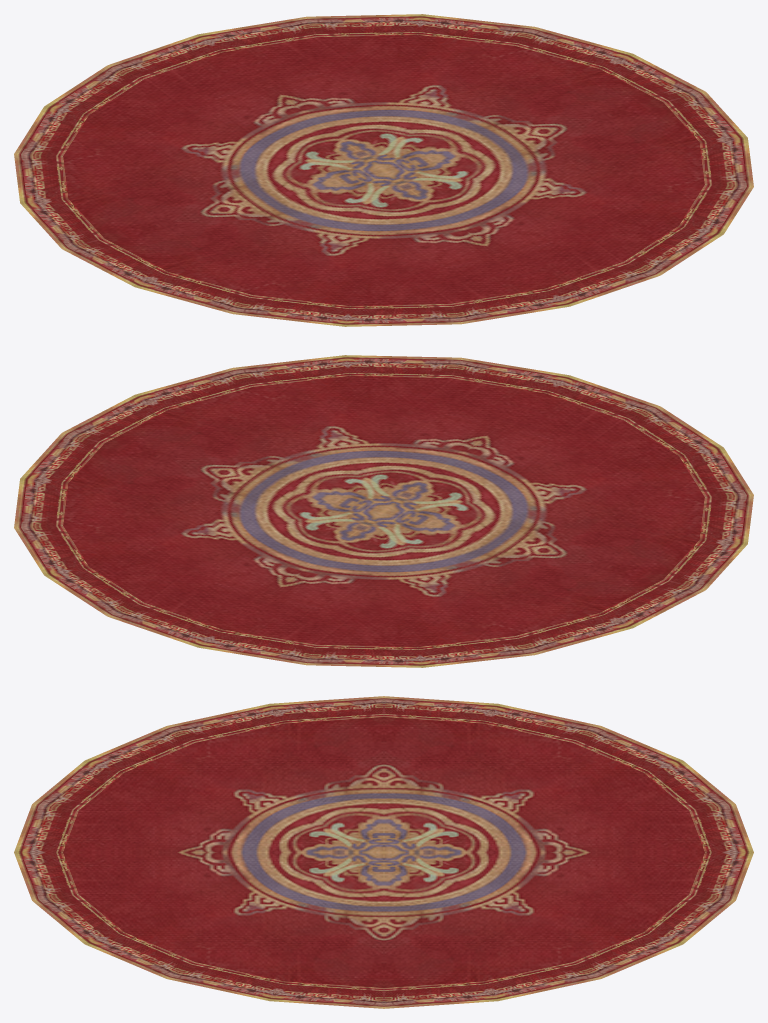
File: S2_Build_XSC052b.FBX
3 views of the same model, one above another, from view 1: azimuth 30°, elevation 25°; view 2: azimuth 150°, elevation 25°; view 3: azimuth 270°, elevation 25° (orthographic).
Parts seen in each view (by area): view 1: S2_Build_XSC052b; view 2: S2_Build_XSC052b; view 3: S2_Build_XSC052b.
Boxes of the visible parts, <box> form: S2_Build_XSC052b: <box>14,14,753,326</box>; S2_Build_XSC052b: <box>14,355,753,667</box>; S2_Build_XSC052b: <box>14,696,753,1008</box>.
Size of the model in its own units: 2037 by 0.00016 by 2037.
Materials: 1 (1 with a texture image).
